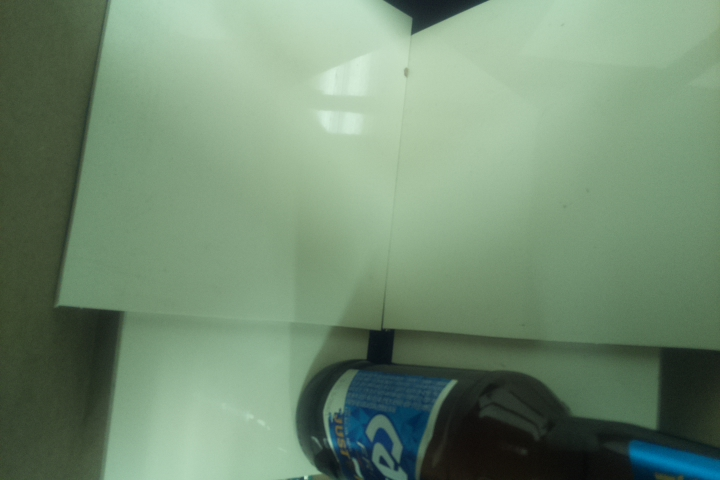makju: (293, 358, 720, 478)
